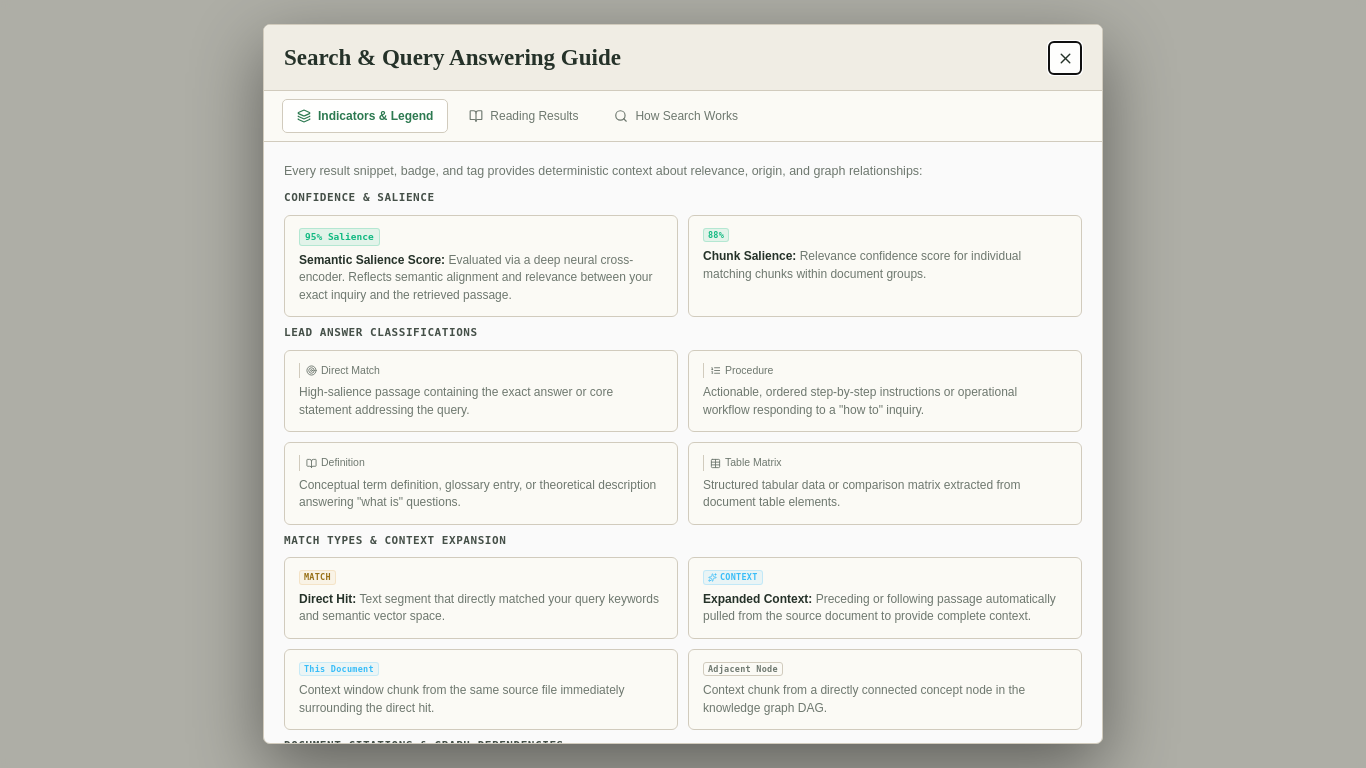
Test: ResultsGuideDialog › switches to Reading Results tab and How Search Works tab
# Click Reading Results tab
What coordinates should you click on to do the following:
click the tab "Reading Results"
I would click on:
 (524, 116)
Its box is left=454, top=98, right=594, bottom=132.
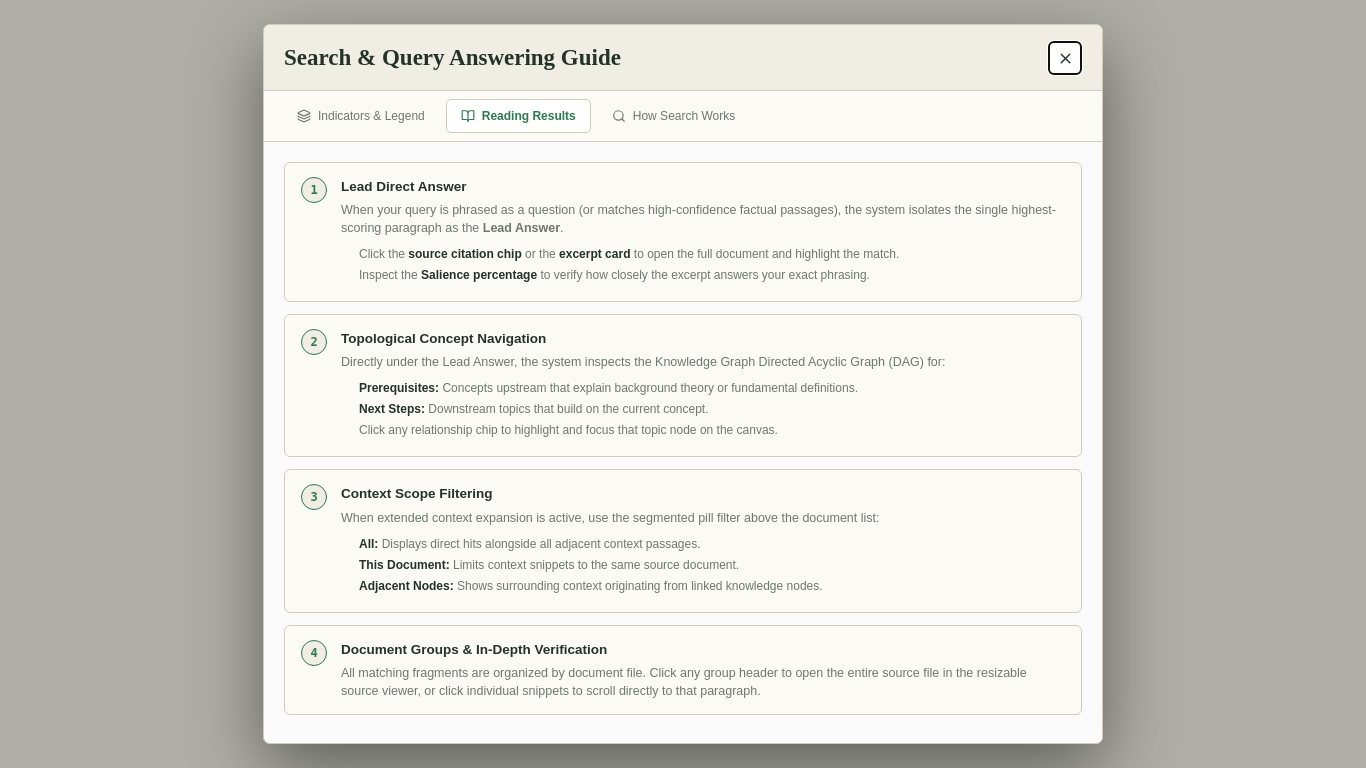
Check: the heading "Lead Direct Answer" is shown, box left=341, top=178, right=466, bottom=194
Check: the heading "Topological Concept Navigation" is shown, box left=341, top=331, right=546, bottom=346
# Click How Search Works tab
What coordinates should you click on to do the following:
click the tab "How Search Works"
I would click on:
 (674, 116)
Its box is left=597, top=98, right=750, bottom=132.
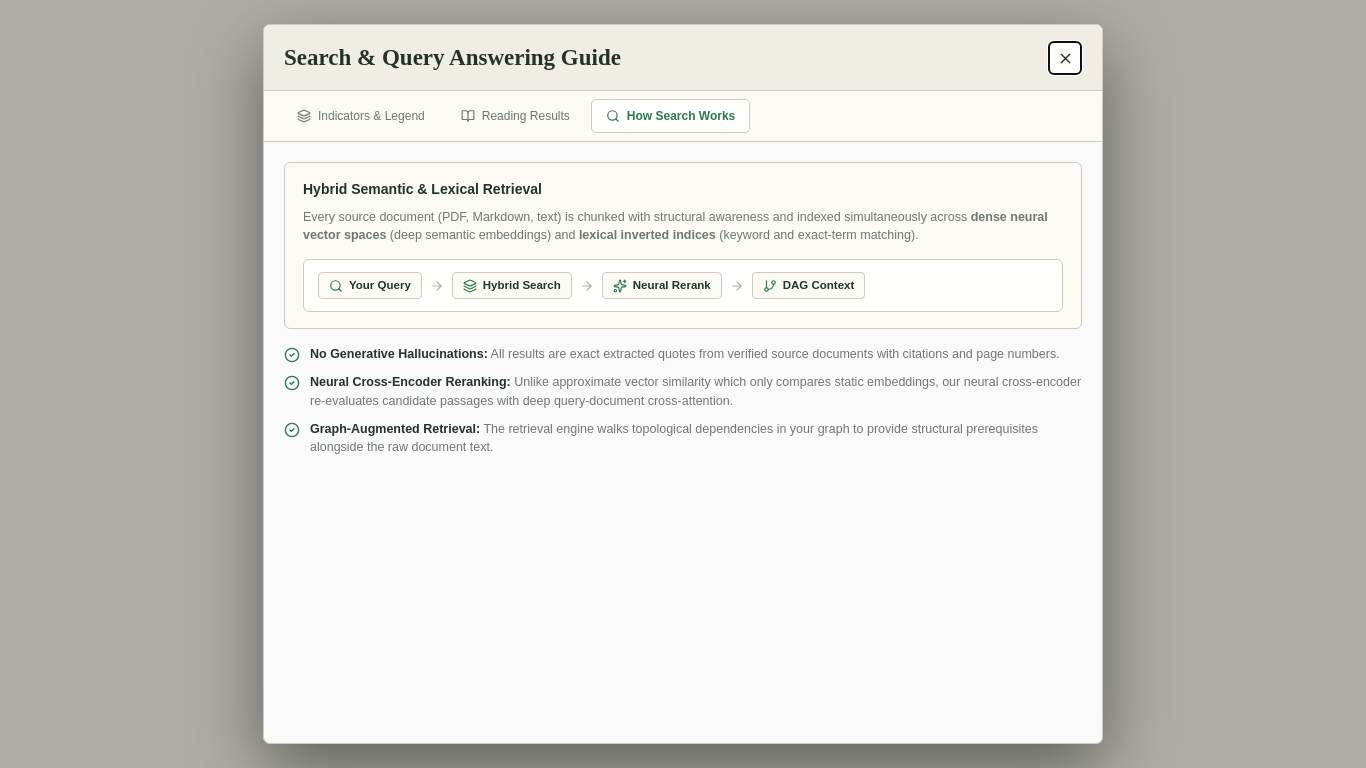
Check: the heading "Hybrid Semantic & Lexical Retrieval" is shown, box left=303, top=180, right=542, bottom=196
Check: the text "No Generative Hallucinations:" is shown, box left=310, top=347, right=488, bottom=361
